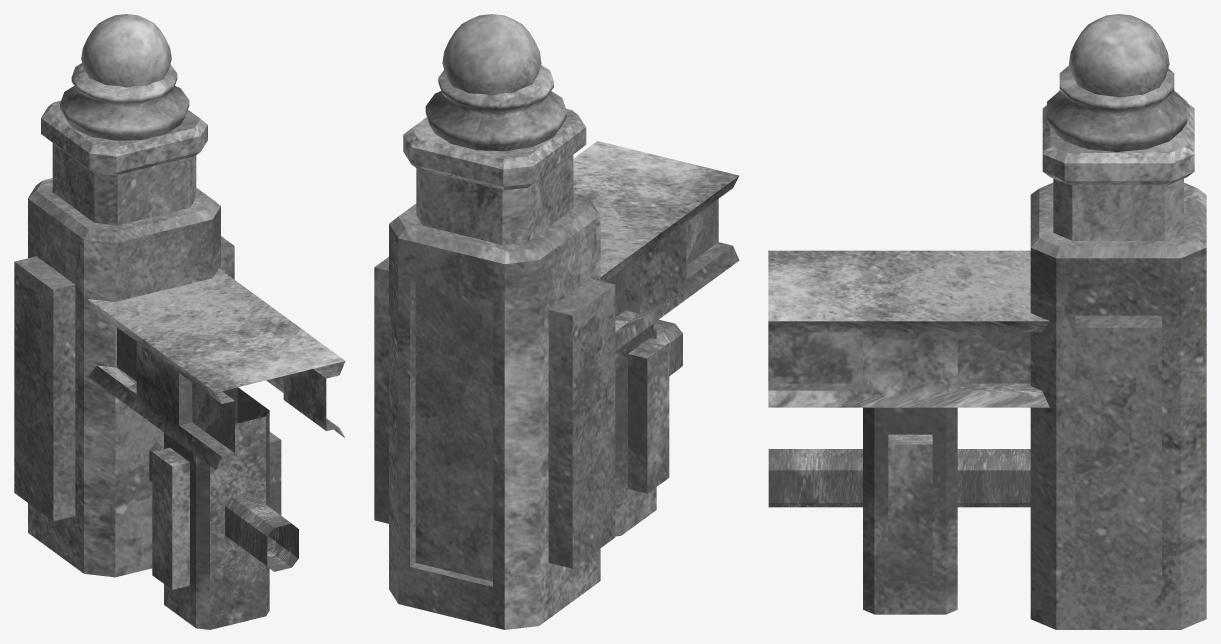
Rendered from sm_fence_stone_ending.fbx.
The picture shows the model from 3 angles, left to right: view 1: azimuth 30°, elevation 25°; view 2: azimuth 150°, elevation 25°; view 3: azimuth 270°, elevation 25°; orthographic projection. The views are drawn at different scales.
Parts seen in each view (by area): view 1: sm_fence_stone_ending; view 2: sm_fence_stone_ending; view 3: sm_fence_stone_ending.
Part boxes in pixels (x1=…): sm_fence_stone_ending: x1=14, y1=14, x2=345, y2=629; sm_fence_stone_ending: x1=374, y1=14, x2=739, y2=629; sm_fence_stone_ending: x1=768, y1=14, x2=1206, y2=629.
Bounding box in the file's own units: 2.05 × 5.62 × 3.86.
